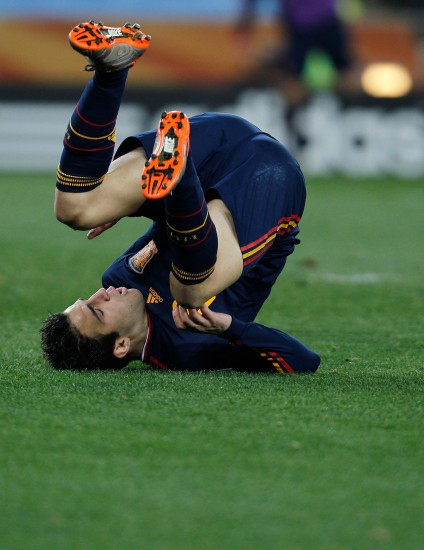down: (21, 13, 348, 396)
